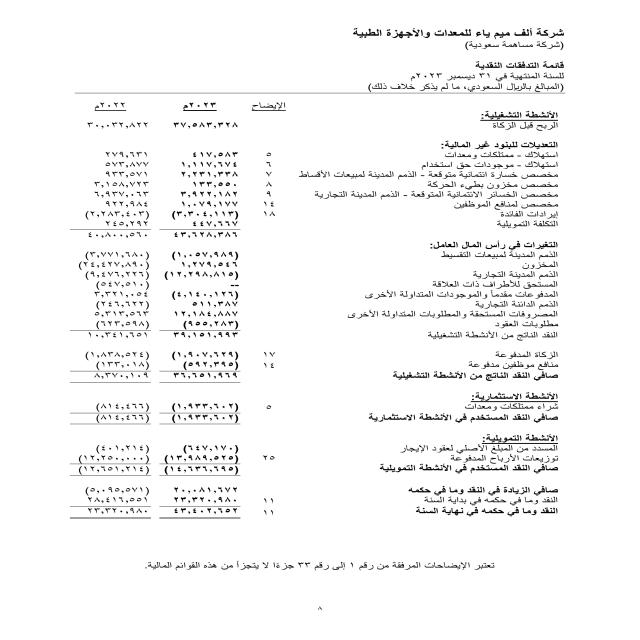financial_sheets: (474, 59, 575, 74)
table: (8, 91, 289, 541)
